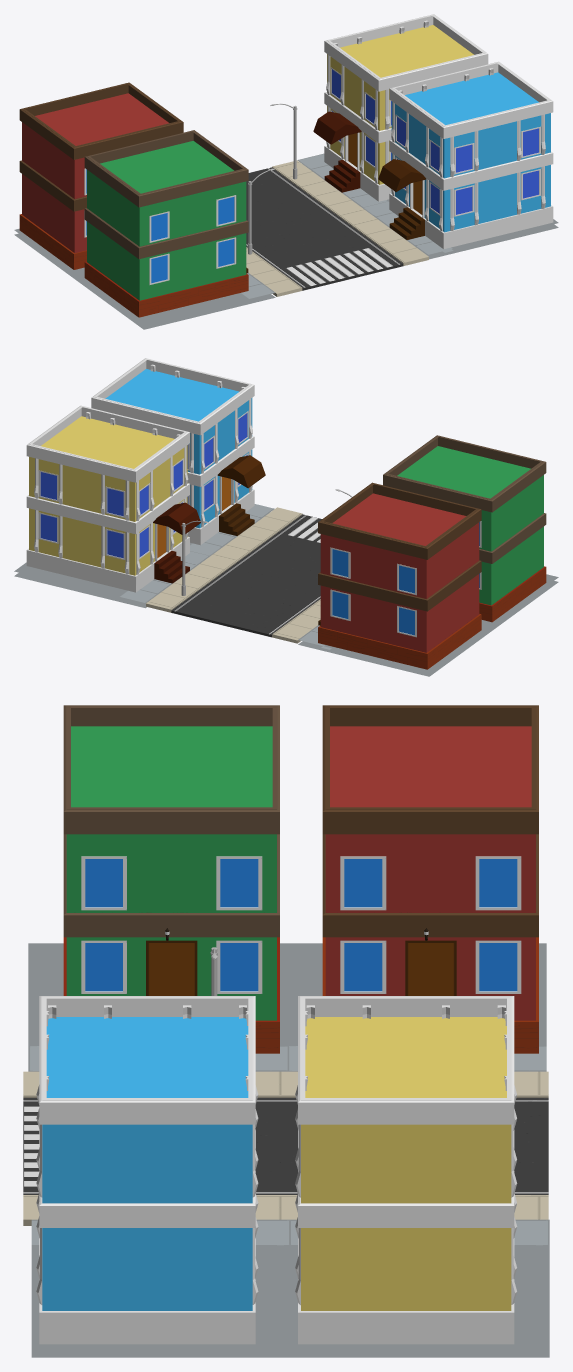
Rendered from CityPt5.fbx.
The picture shows the model from 3 angles, top to bottom: view 1: azimuth 30°, elevation 25°; view 2: azimuth 150°, elevation 25°; view 3: azimuth 270°, elevation 25°; orthographic projection. The views are drawn at different scales.
Visible parts, largest first — view 1: Ed12, Ed13, Ed14, Ed11, Street; view 2: Ed14, Ed11, Ed13, Ed12, Street; view 3: Ed13, Ed14, Ed11, Ed12, Street.
Part boxes in pixels (x1=…): Ed12: x1=79, y1=130, x2=275, y2=329; Ed13: x1=362, y1=61, x2=558, y2=259; Ed14: x1=297, y1=14, x2=488, y2=208; Ed11: x1=14, y1=82, x2=183, y2=282; Street: x1=246, y1=160, x2=428, y2=296; Ed14: x1=14, y1=405, x2=209, y2=608; Ed11: x1=298, y1=482, x2=493, y2=676; Ed13: x1=91, y1=358, x2=274, y2=555; Ed12: x1=383, y1=435, x2=558, y2=629; Street: x1=146, y1=507, x2=321, y2=643; Ed13: x1=31, y1=996, x2=290, y2=1357; Ed14: x1=290, y1=996, x2=549, y2=1357; Ed11: x1=287, y1=705, x2=546, y2=1071; Ed12: x1=28, y1=705, x2=287, y2=1071; Street: x1=23, y1=1071, x2=548, y2=1225.
Bounding box in the file's own units: 27.34 × 7.95 × 15.02.
